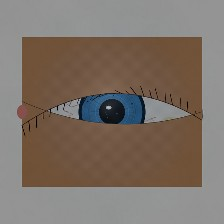pinguecula_lesion: (151, 106, 192, 138)
